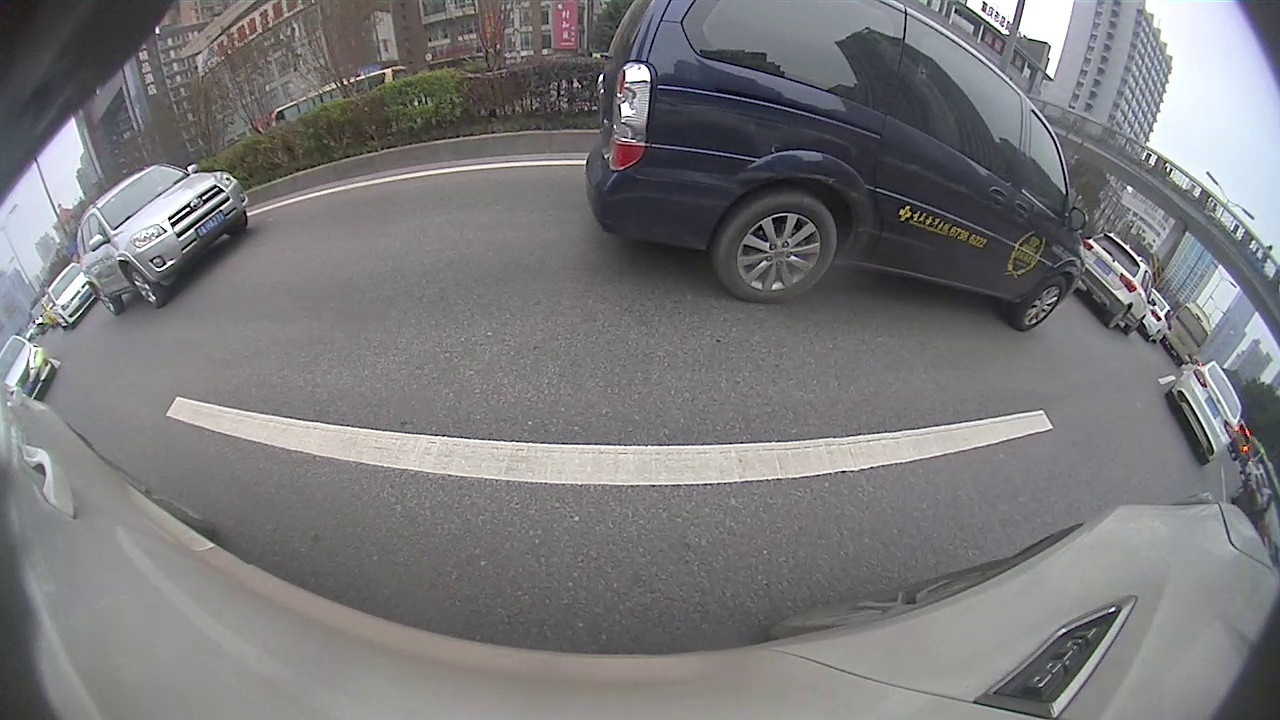car: (584, 1, 1087, 333), (73, 160, 250, 317), (1074, 231, 1157, 338), (1164, 361, 1244, 467)
front: (1013, 273, 1069, 332), (121, 265, 162, 308)
rear: (716, 196, 838, 305)
